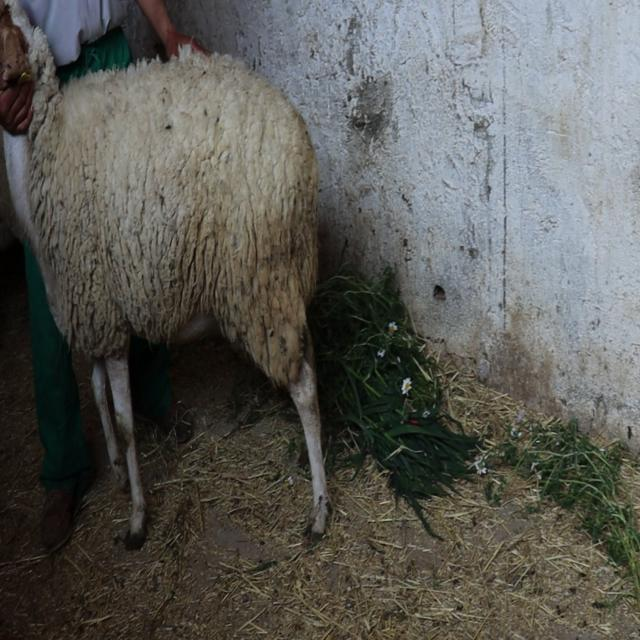Score_5: (2, 0, 329, 545)
